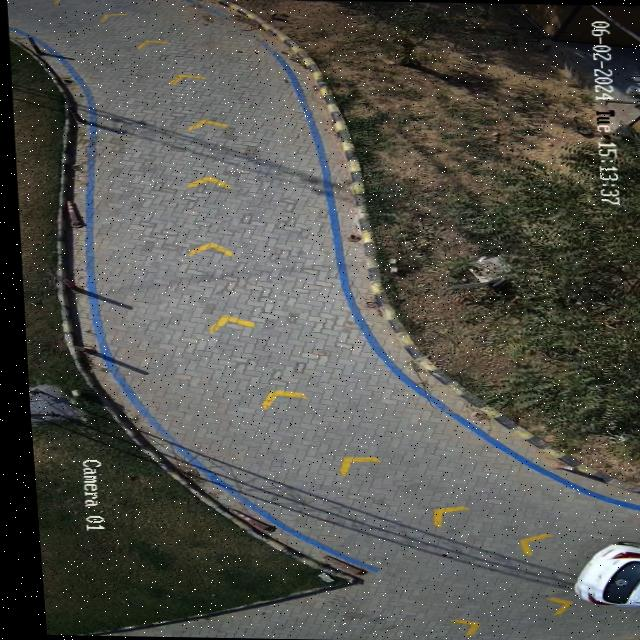car: (563, 541, 640, 609)
